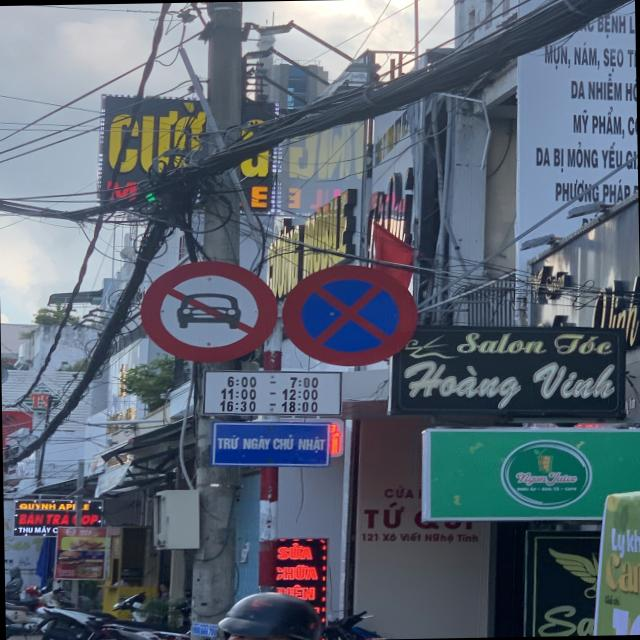Cam_Dung_Va_Dau_Xe: (284, 262, 418, 366)
Cam_O_To: (139, 260, 278, 362)
